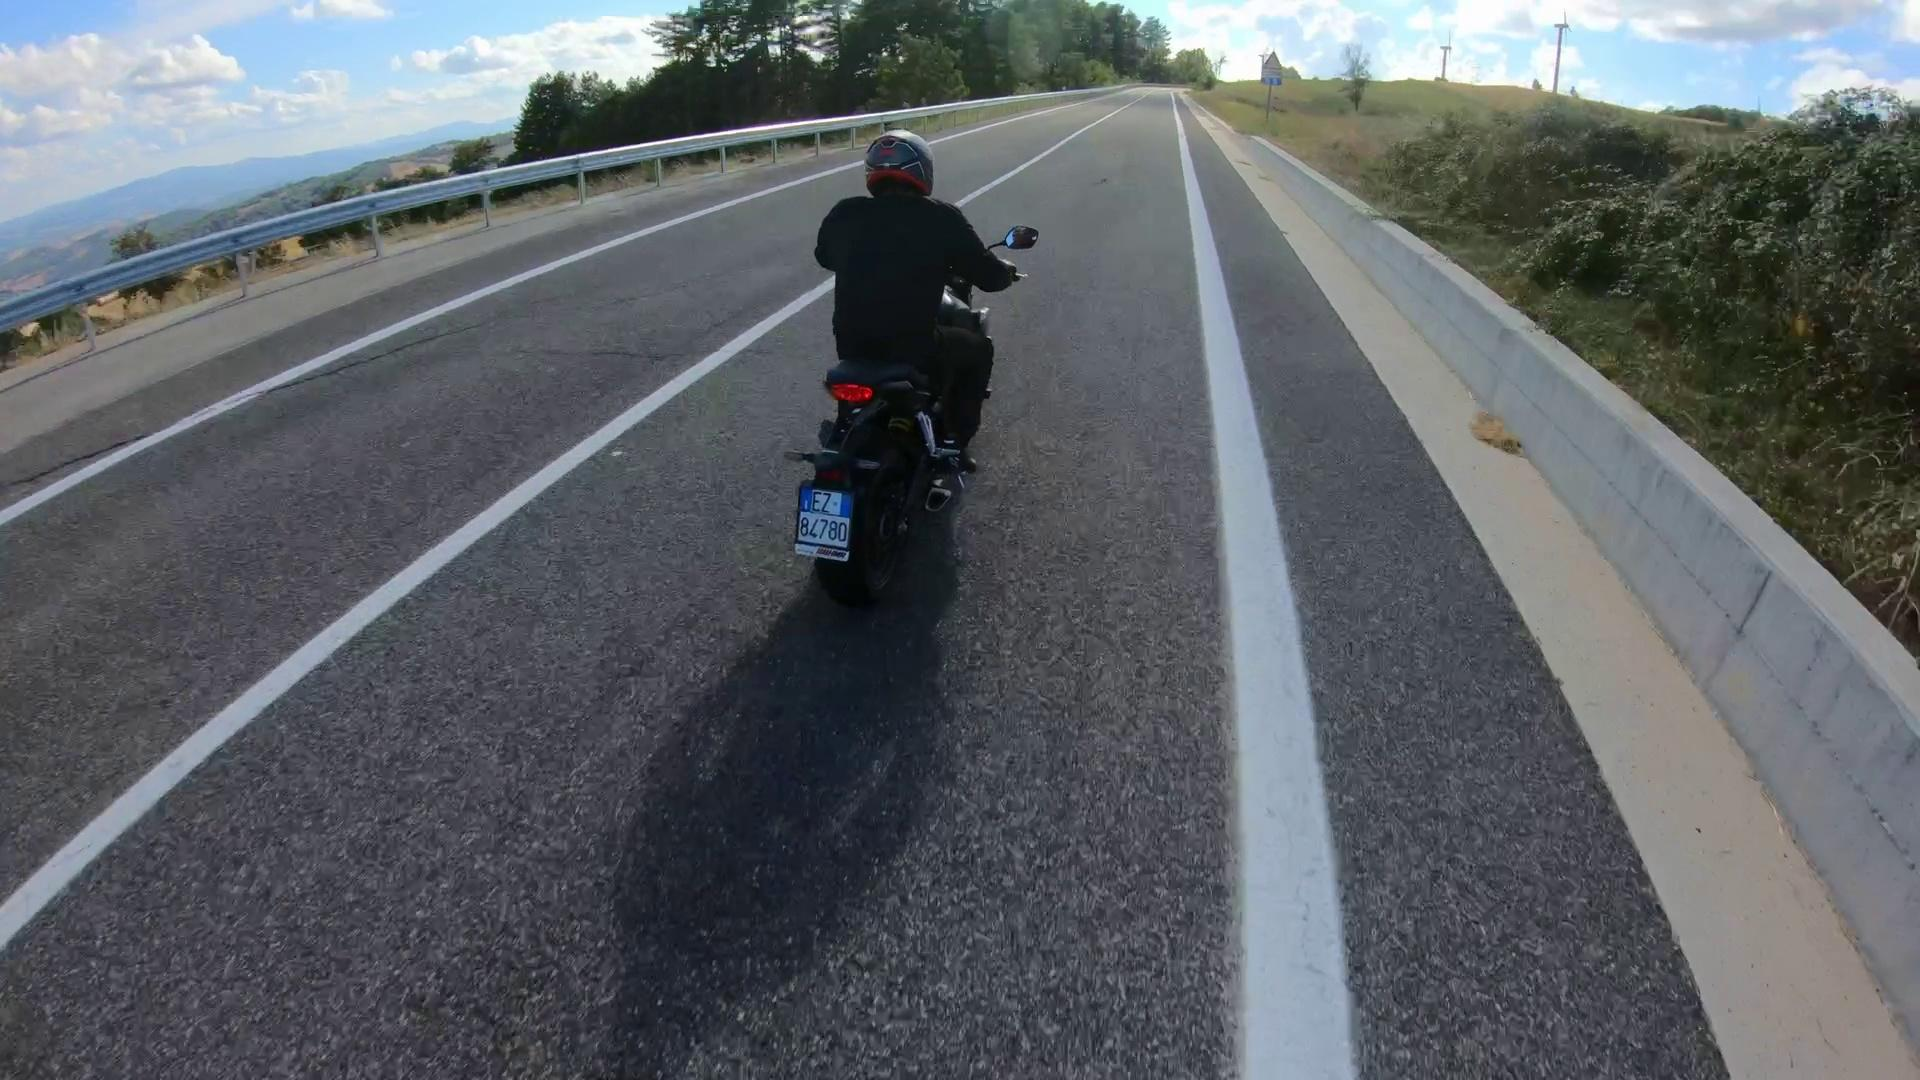motorbike: (795, 217, 1047, 625)
person: (807, 127, 1025, 485)
